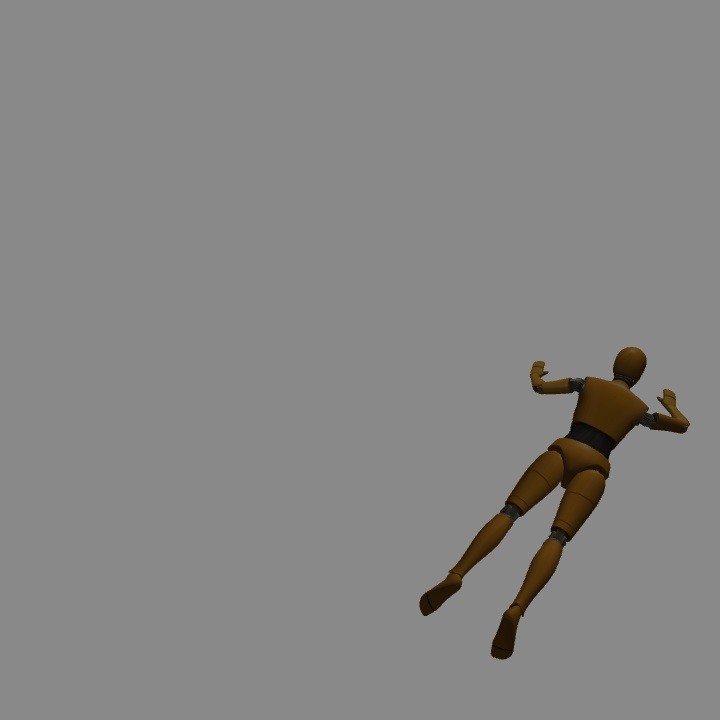victim: (420, 348, 687, 661)
